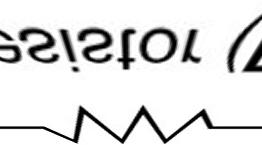resistor: (56, 98, 221, 141)
